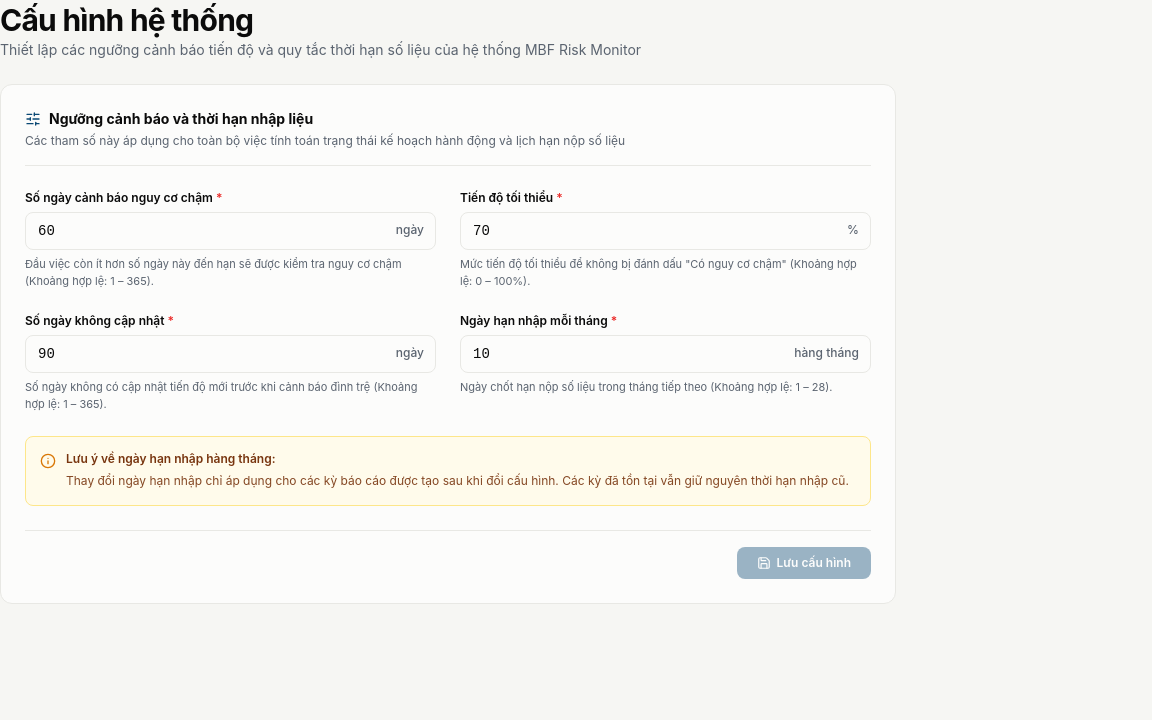
Scenario: SettingsView component › binds fieldErrors from server validation response
Replace the text in the number field labelled "Ngày hạn nhập mỗi tháng *" with "25" at (666, 354), box [460,335,871,373]
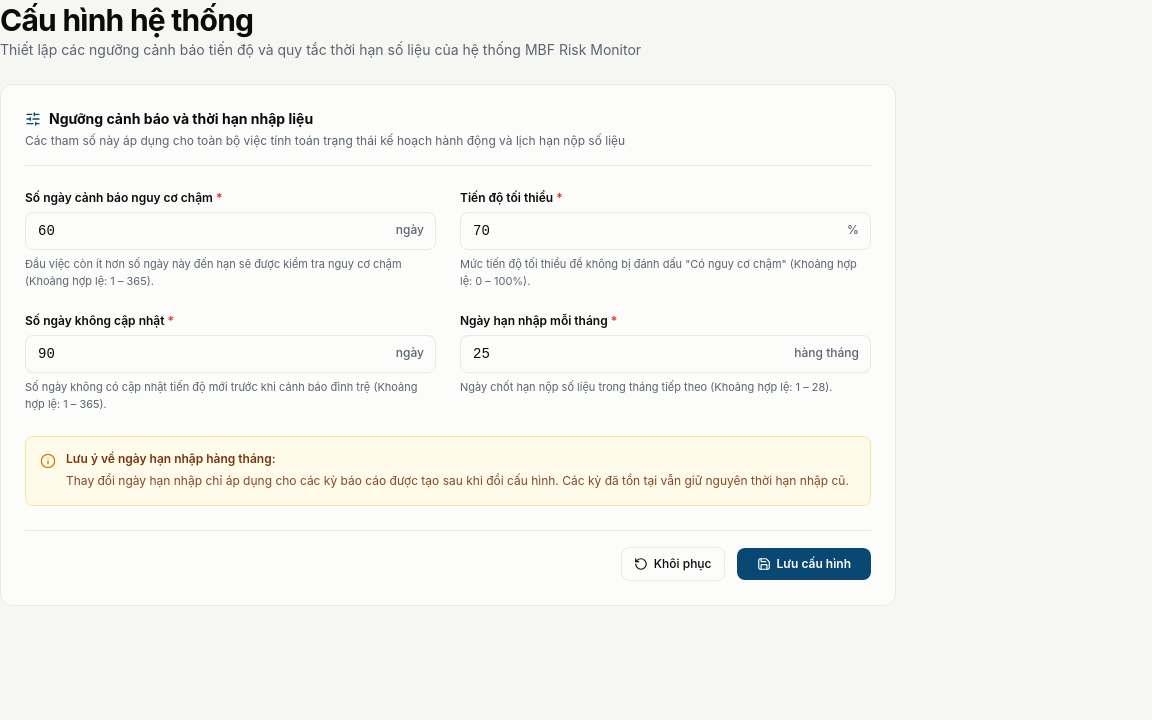
Click the button "Lưu cấu hình".
click(804, 564)  # box [736,548,871,580]
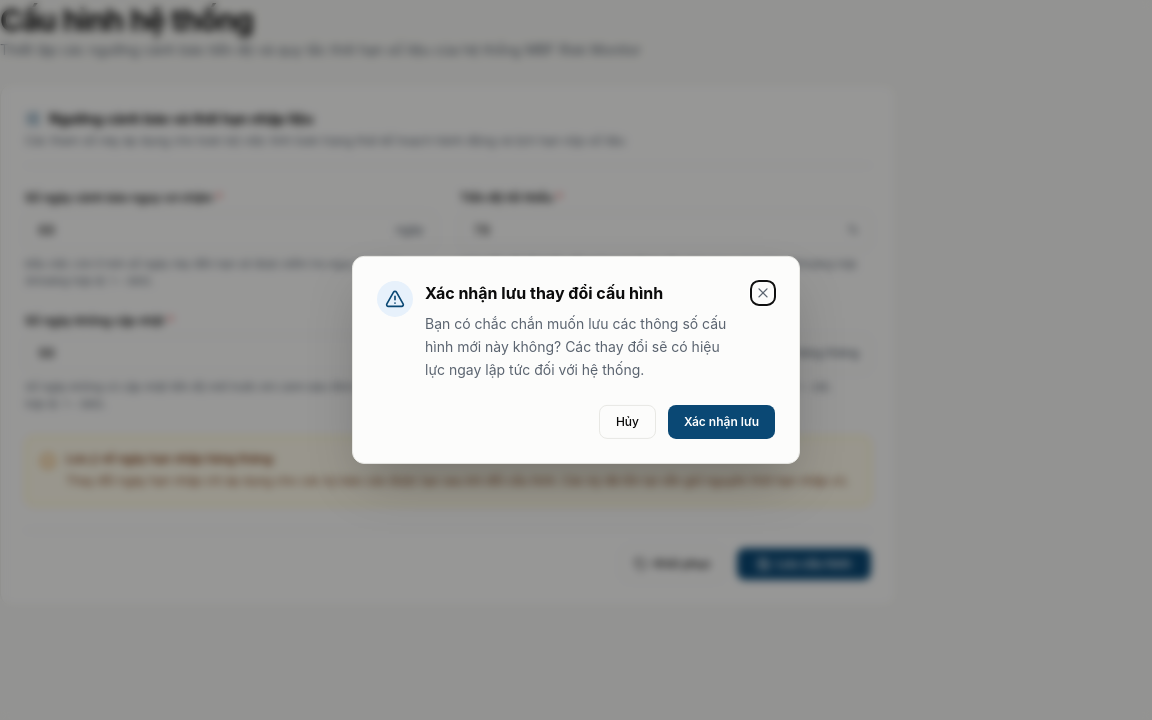
Click the button "Xác nhận lưu".
click(722, 422)  # box [668,405,775,439]
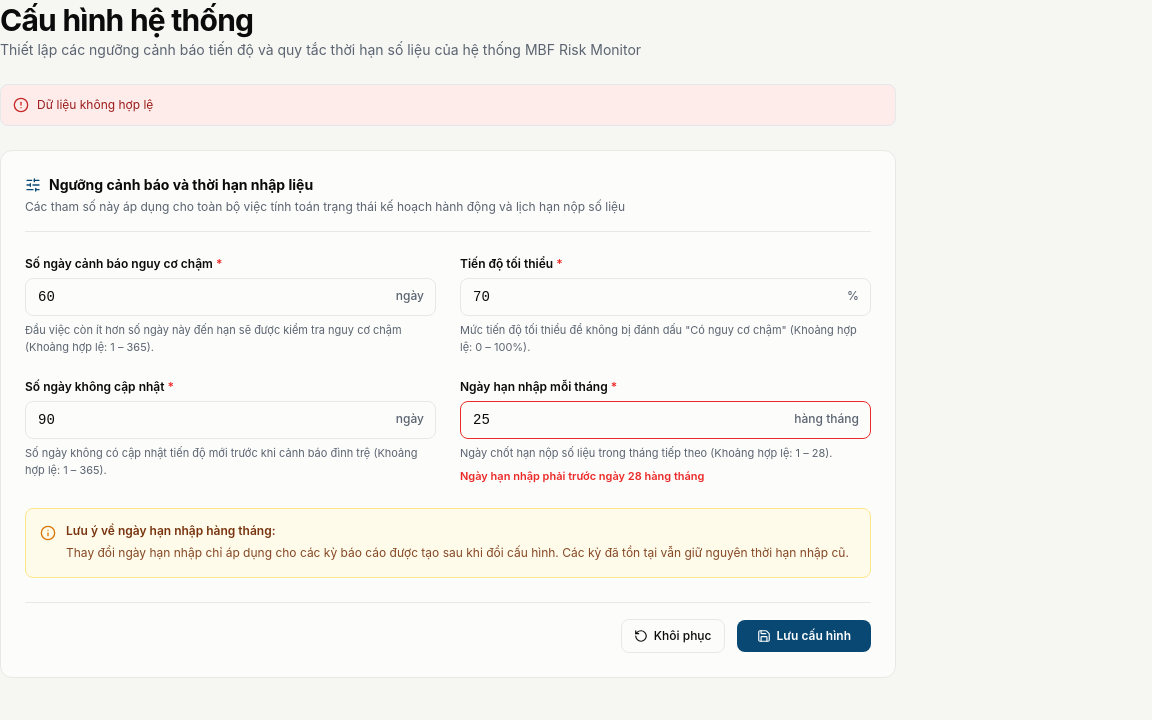
Expected: the text "Ngày hạn nhập phải trước ngày 28 hàng tháng" is shown, [460,468,704,482]
